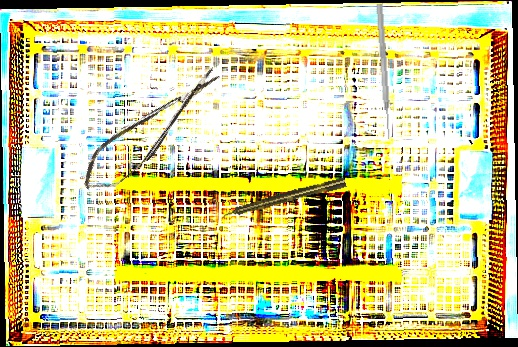Handpiece: (221, 176, 347, 221)
Micro Scissor: (71, 59, 233, 202)
Pusher: (374, 3, 394, 140)
